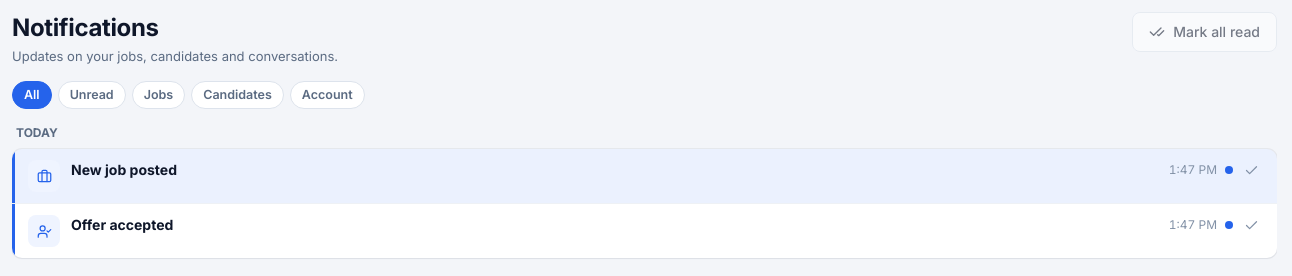
Scenario: NotificationList › filters to a category when its chip is selected
Expected: the text "New job posted" is shown, x1=71 y1=161 x2=177 y2=178
Expected: the text "Offer accepted" is shown, x1=71 y1=216 x2=173 y2=233
Click the button "Jobs": {"x": 158, "y": 95} x1=132 y1=81 x2=185 y2=109
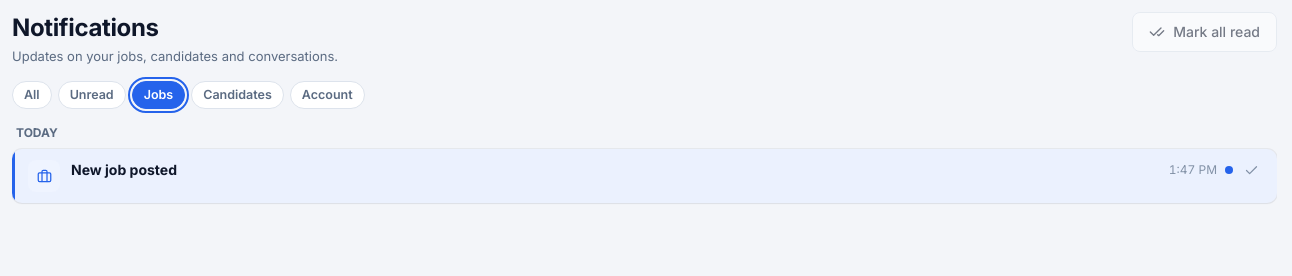
Expected: the text "New job posted" is shown, x1=71 y1=161 x2=177 y2=178
Expected: the link "Offer accepted" is gone
